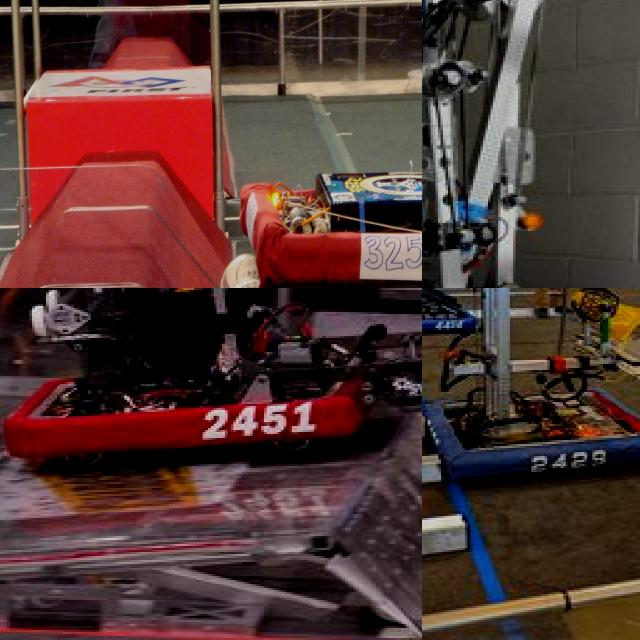FRC-Robots: (0, 288, 422, 475), (422, 0, 640, 288), (422, 288, 640, 488), (232, 153, 422, 288)
